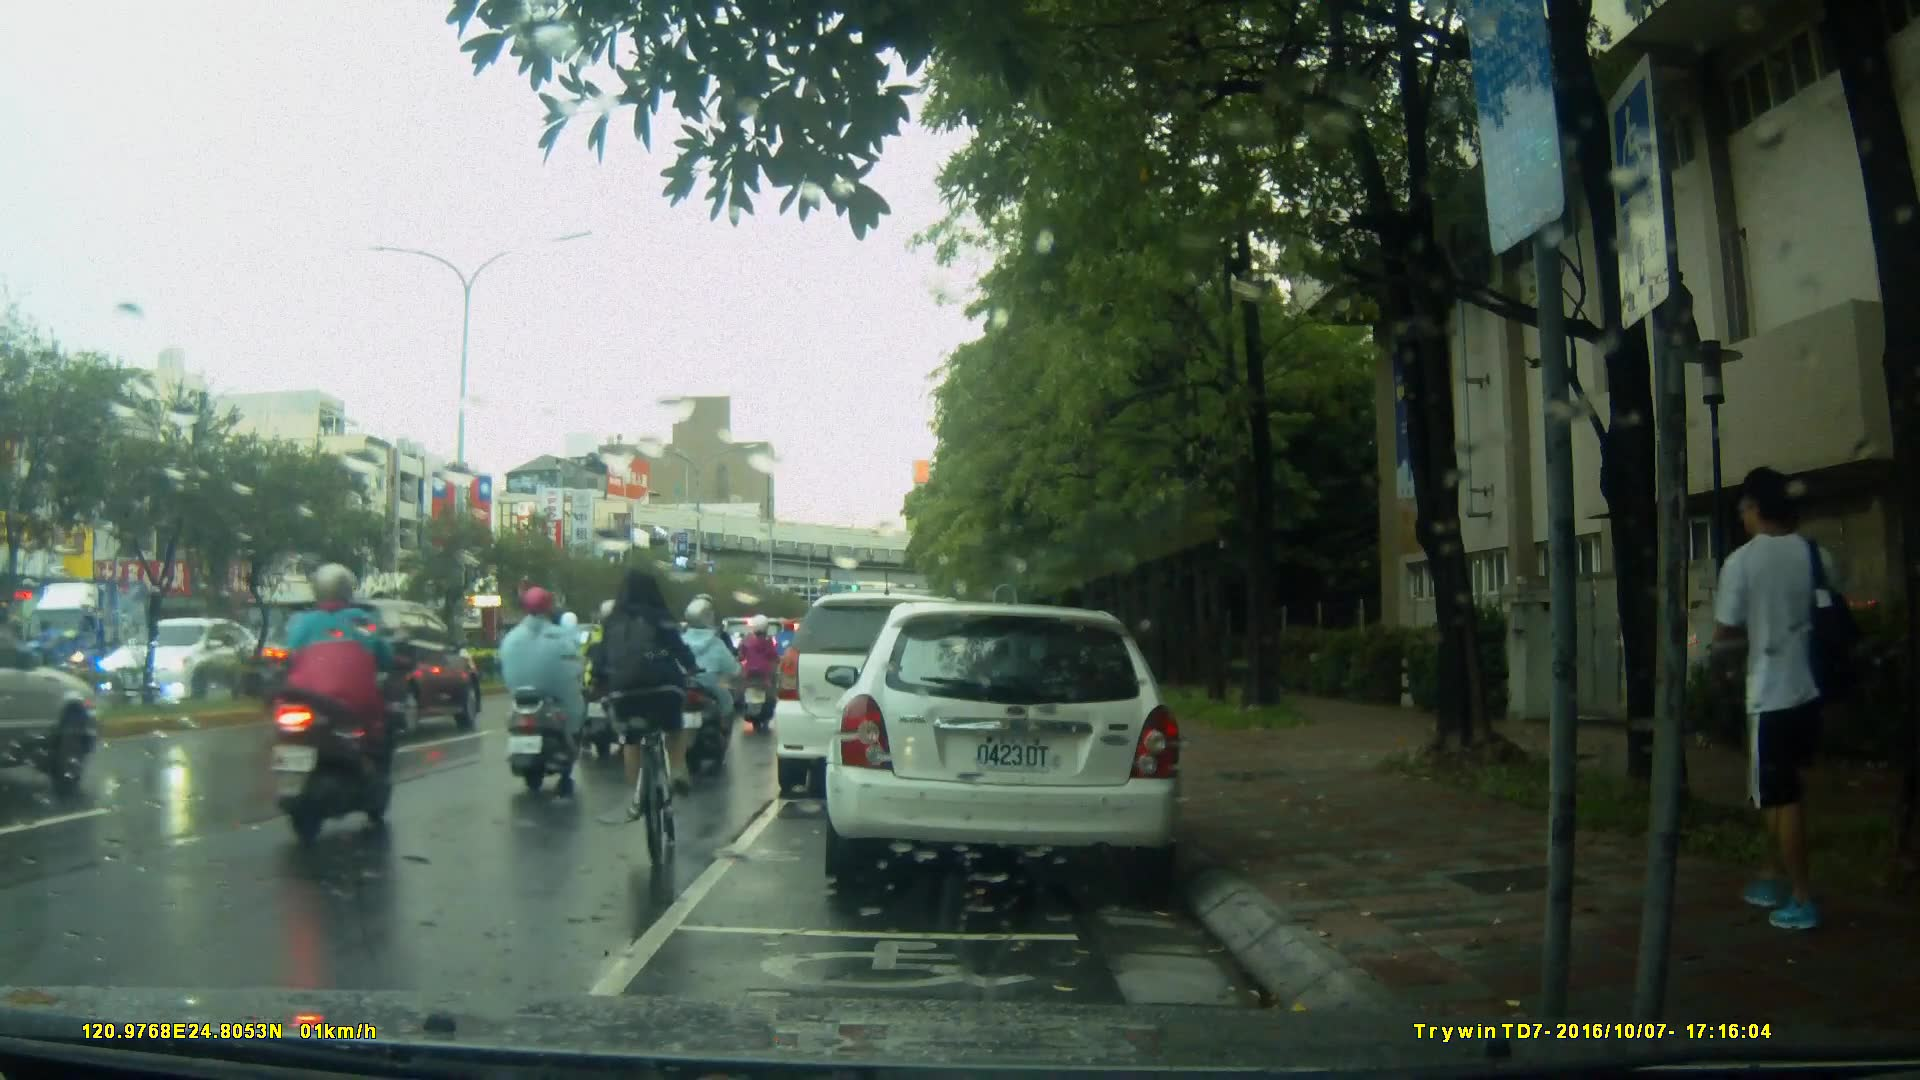pedestrian: (1715, 473, 1887, 955)
rider: (260, 566, 396, 844), (603, 559, 700, 856), (494, 588, 594, 798), (665, 597, 735, 759), (579, 599, 644, 764), (675, 592, 741, 752), (547, 612, 608, 735), (737, 621, 786, 735), (764, 614, 810, 689)
vehicle: (822, 604, 1188, 883), (774, 595, 995, 802), (254, 596, 486, 740), (20, 576, 161, 697), (97, 614, 287, 703)
